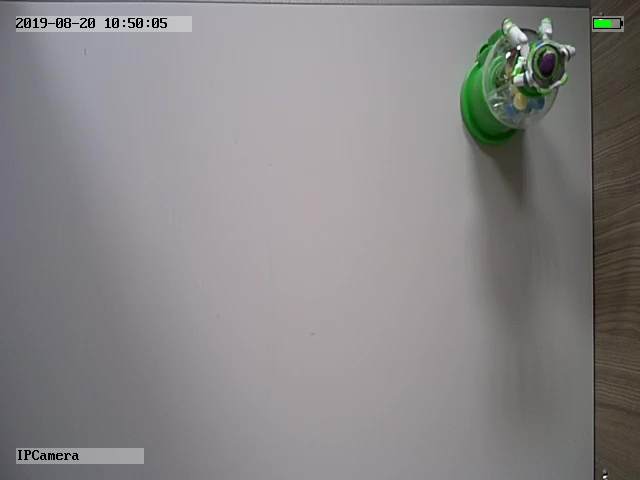buzz: (457, 15, 577, 147)
